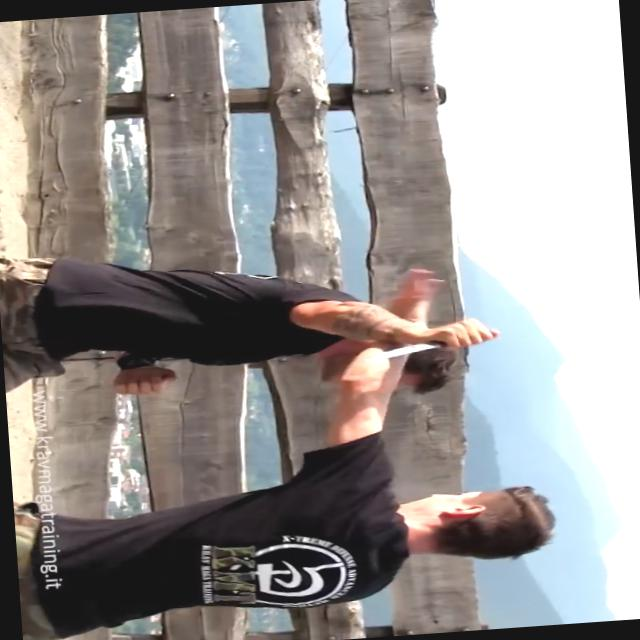knife: (348, 312, 508, 367)
